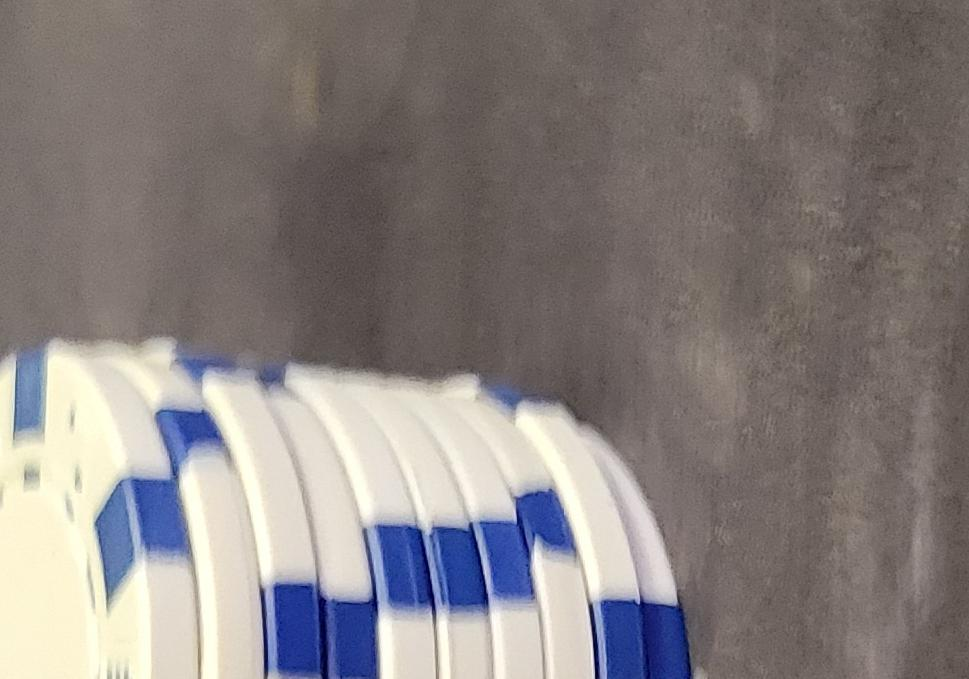Chip: (1, 305, 383, 679)
